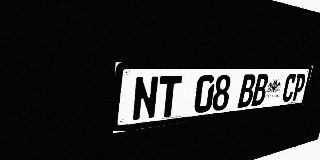0: (193, 75, 216, 114)
8: (211, 75, 232, 111)
B: (237, 74, 257, 108), (251, 74, 269, 106)
C: (281, 74, 297, 102)
N: (132, 76, 159, 122)
P: (291, 73, 307, 101)
T: (156, 75, 182, 118)
